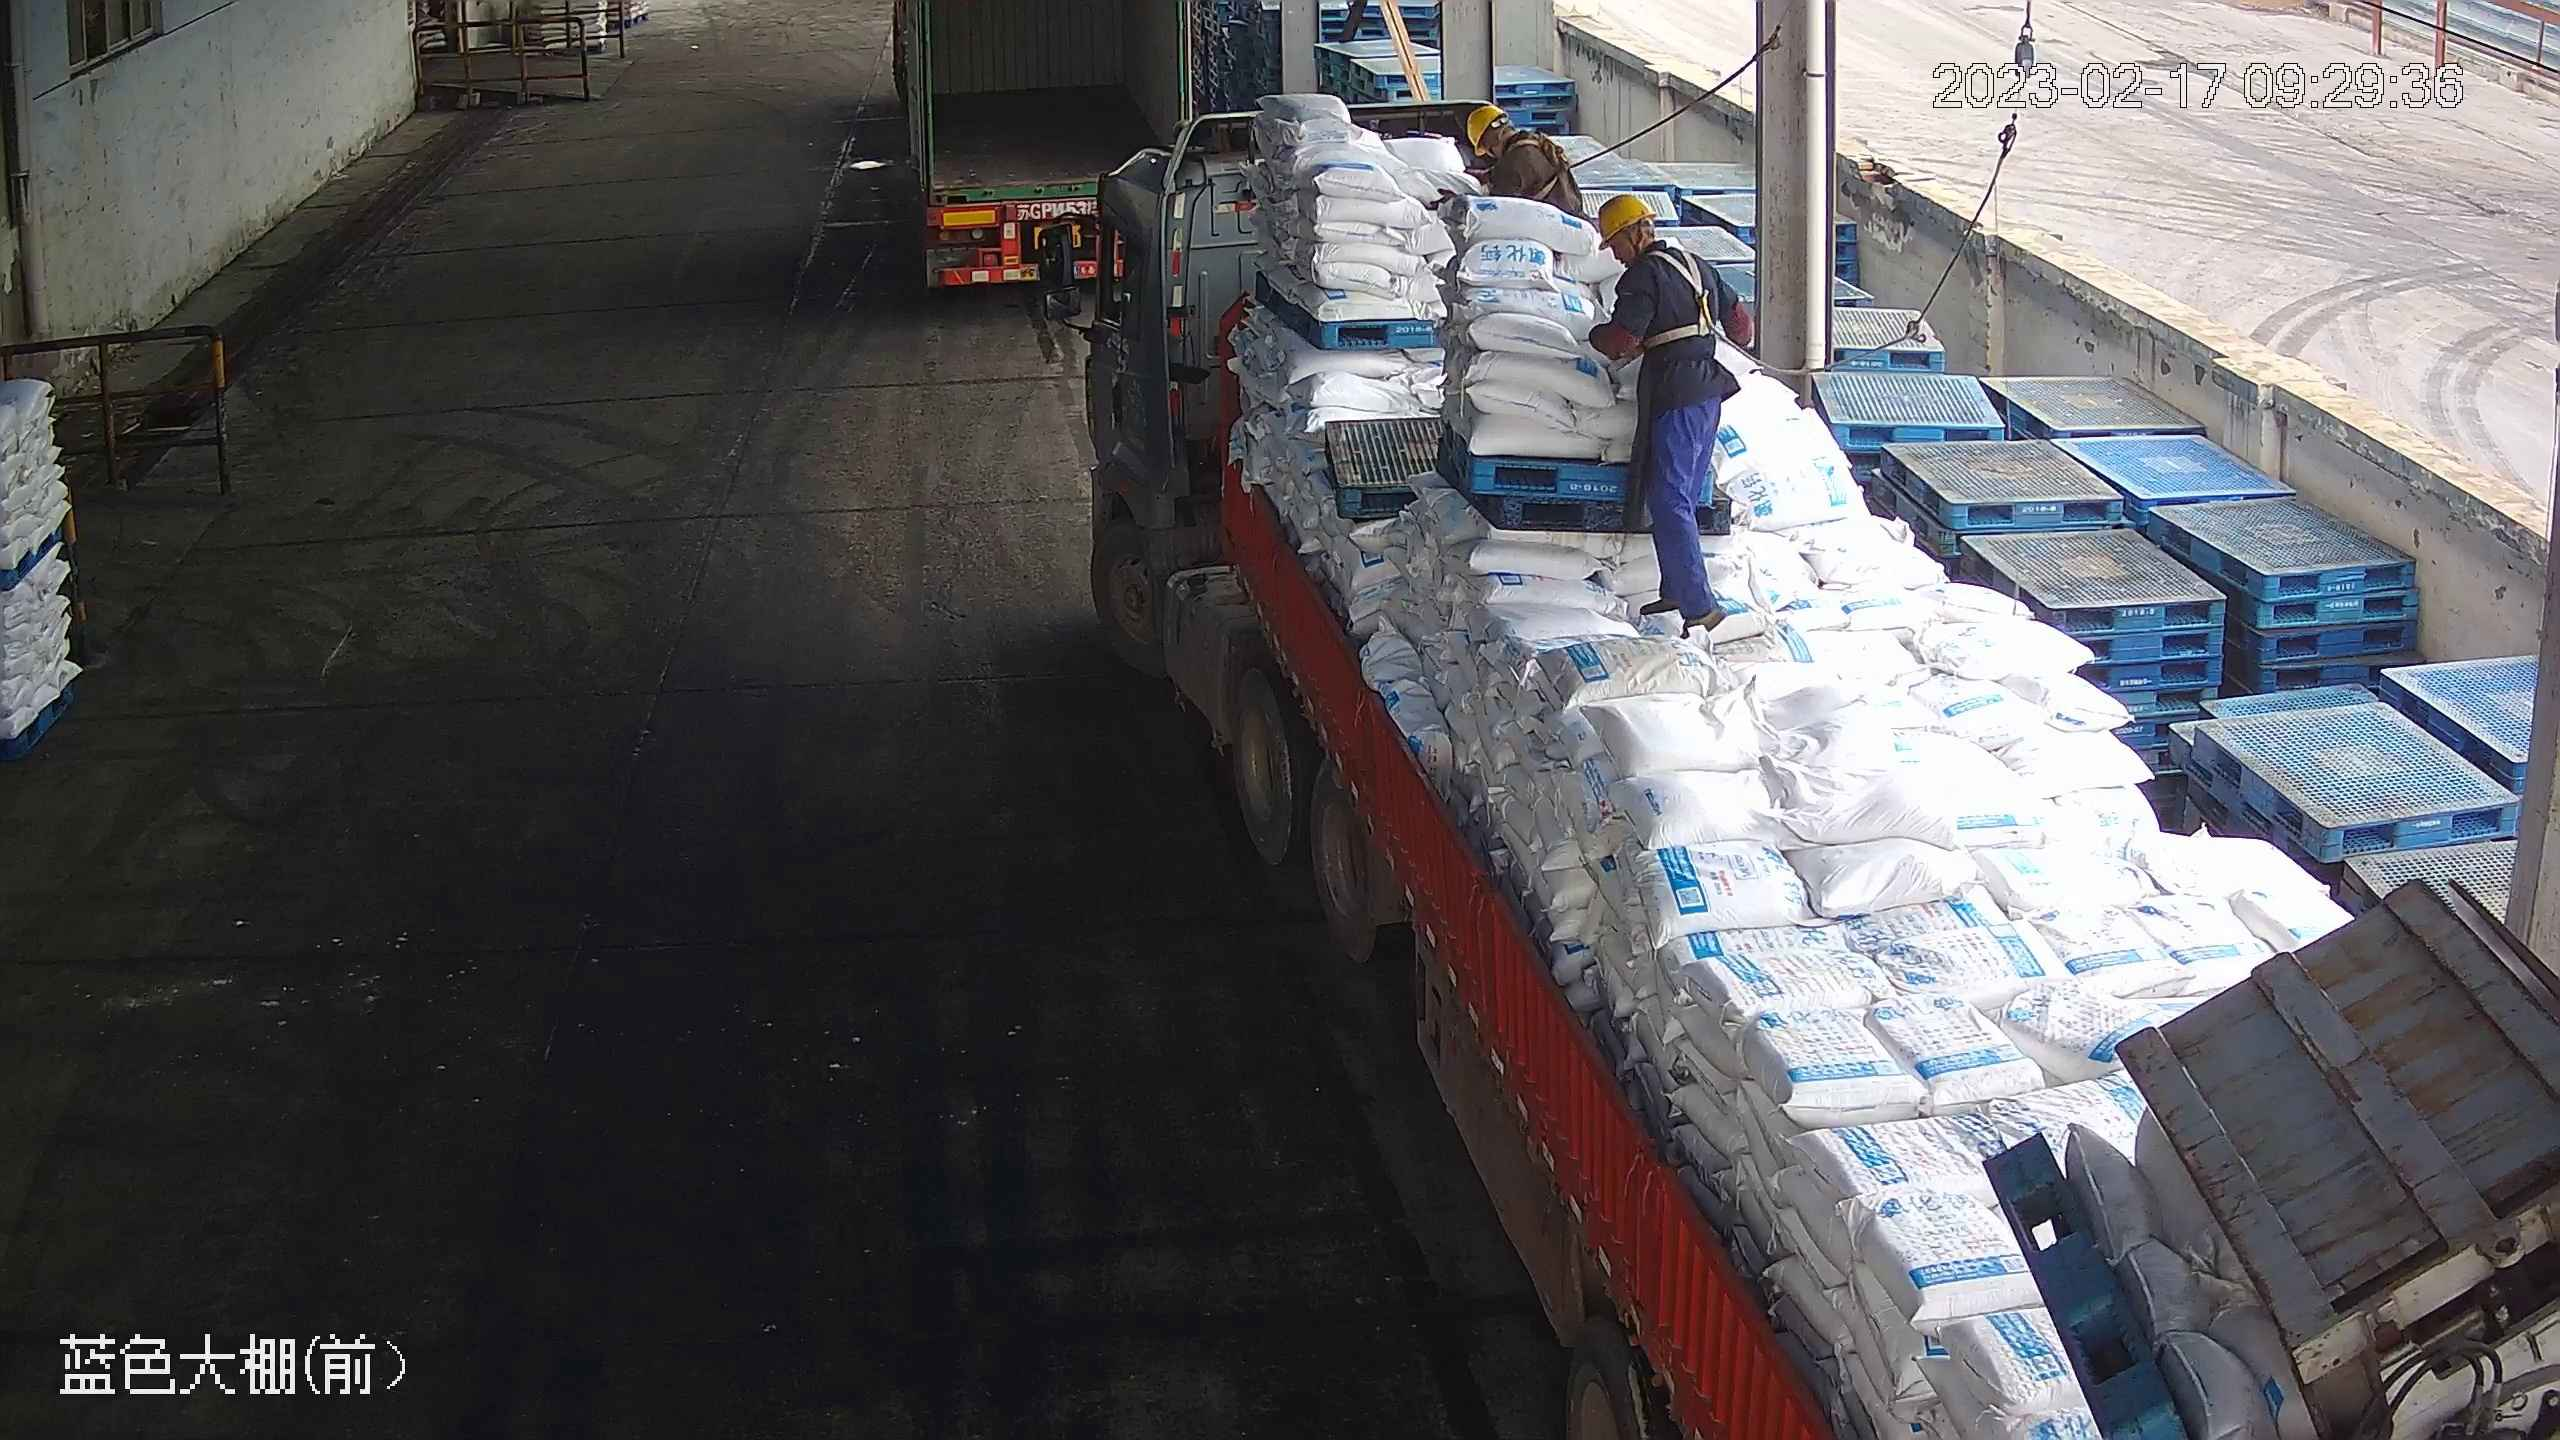belt: (1640, 247, 1745, 352), (1512, 120, 1574, 210)
head: (1591, 196, 1734, 325), (1469, 103, 1573, 198)
helmet: (1595, 198, 1657, 252), (1467, 103, 1510, 159)
people: (1581, 196, 1756, 630)
truck: (1040, 100, 2560, 1440), (890, 1, 1200, 303)
